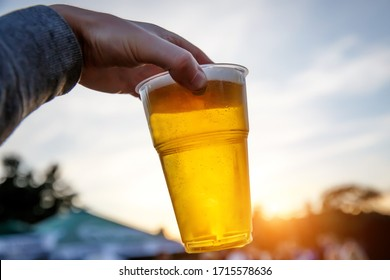plastic_glass: (131, 61, 266, 254)
